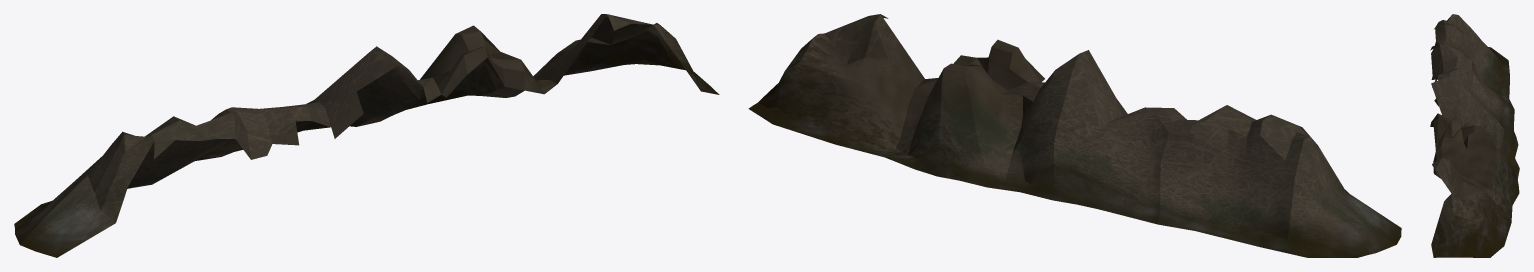
The model's file is cliffBigBack.glb.
3 views of the same model, side by side, from view 1: azimuth 30°, elevation 25°; view 2: azimuth 150°, elevation 25°; view 3: azimuth 270°, elevation 25° (orthographic). The views are drawn at different scales.
Parts seen in each view (by area): view 1: Plane; view 2: Plane; view 3: Plane.
Boxes of the visible parts, box(x1,y1,x2,y2) form: Plane: box(14, 14, 719, 257); Plane: box(748, 14, 1401, 257); Plane: box(1430, 14, 1519, 257).
Bounding box in the file's own units: 196 × 33.18 × 34.31.
1 material, 1 textured.
